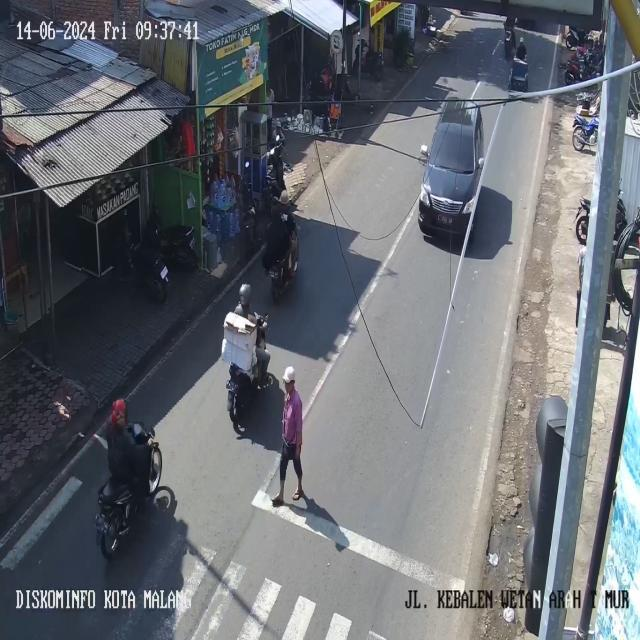Helmet: (111, 399, 126, 424), (239, 283, 250, 304), (283, 366, 294, 382), (279, 189, 289, 204), (520, 37, 523, 43)
Number Plate: (436, 214, 452, 224), (160, 266, 167, 278)
Rearview Mirror: (420, 145, 427, 156), (478, 157, 483, 167)
